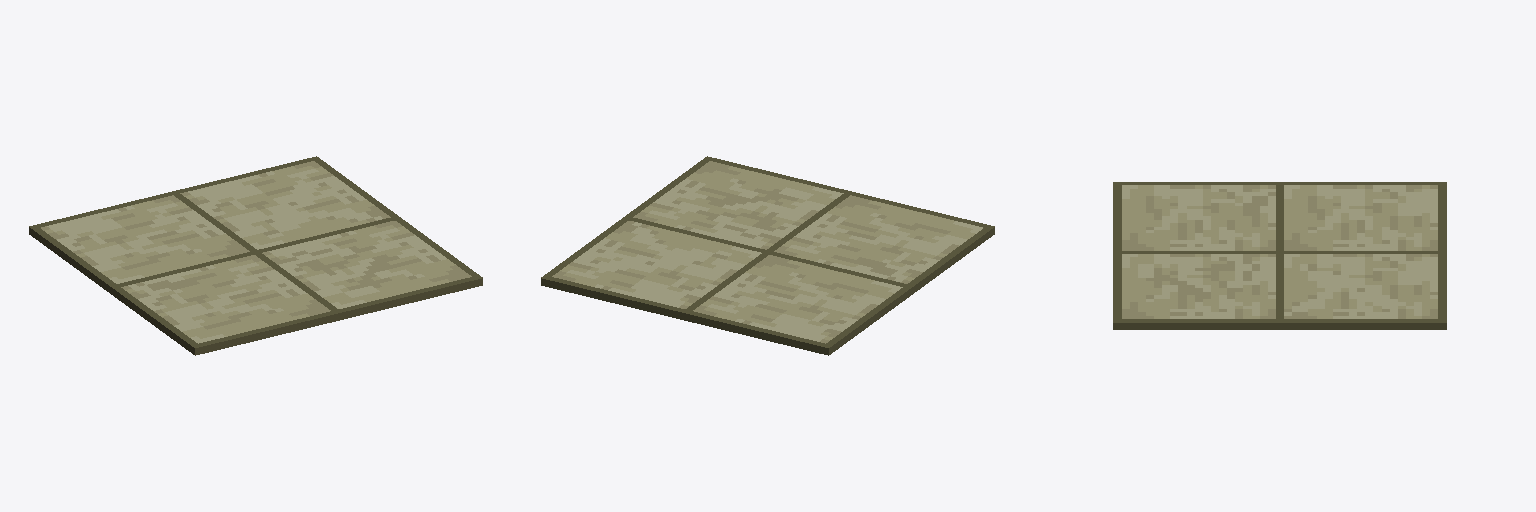
3 views of the same model, side by side, from view 1: azimuth 30°, elevation 25°; view 2: azimuth 150°, elevation 25°; view 3: azimuth 270°, elevation 25° (orthographic).
Visible parts, largest first — view 1: object 1; view 2: object 1; view 3: object 1.
Part boxes in pixels (x1,y1,x2,y2): object 1: (29, 156, 482, 355); object 1: (541, 156, 994, 355); object 1: (1113, 182, 1446, 329).
Bounding box in the file's own units: 4.1 × 0.1 × 4.1.
1 materials, 1 textured.